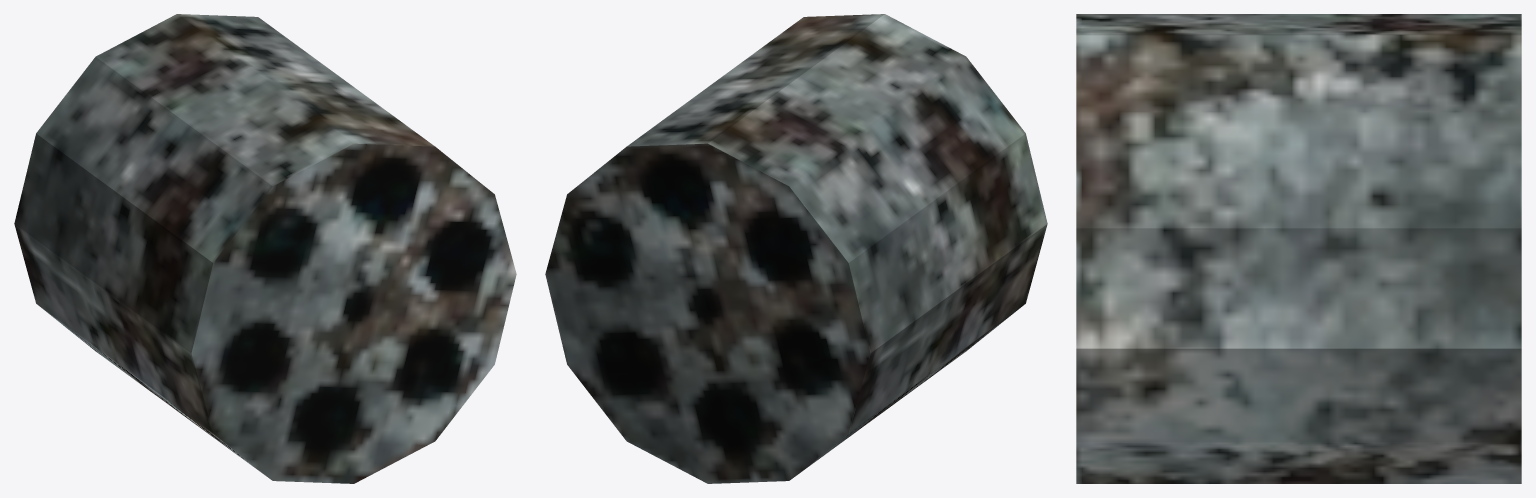
Rendered from MagnumDrum.fbx.
3 renders of one model, left to right at view 1: azimuth 30°, elevation 25°; view 2: azimuth 150°, elevation 25°; view 3: azimuth 270°, elevation 25°, orthographic. The views are drawn at different scales.
Parts seen in each view (by area): view 1: MagnumDrum; view 2: MagnumDrum; view 3: MagnumDrum.
Part boxes in pixels (left/top/right/bottom): MagnumDrum: left=14, top=14, right=516, bottom=483; MagnumDrum: left=545, top=14, right=1047, bottom=483; MagnumDrum: left=1076, top=14, right=1521, bottom=483.
Size of the model in its own units: 6.19 by 6.19 by 5.84.
